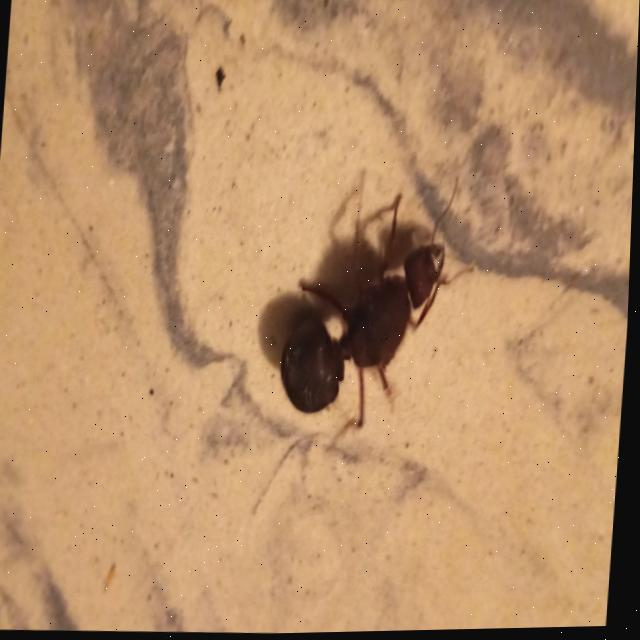Alive-Female-Dealate: (277, 171, 483, 459)
